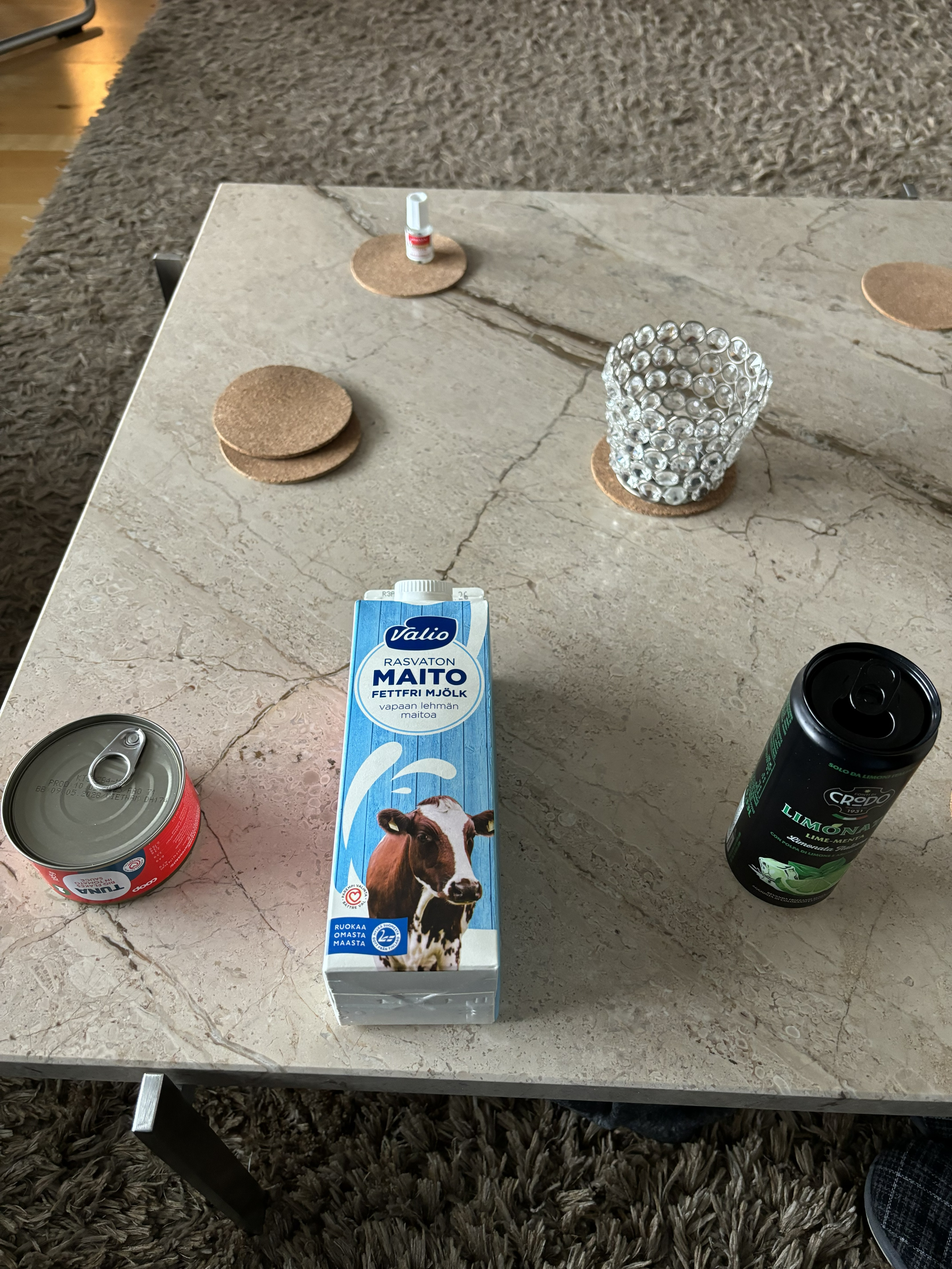Dryckeskartong: (321, 571, 501, 1034)
Konservburk: (0, 711, 199, 912)
Pantburk: (726, 642, 939, 919)
